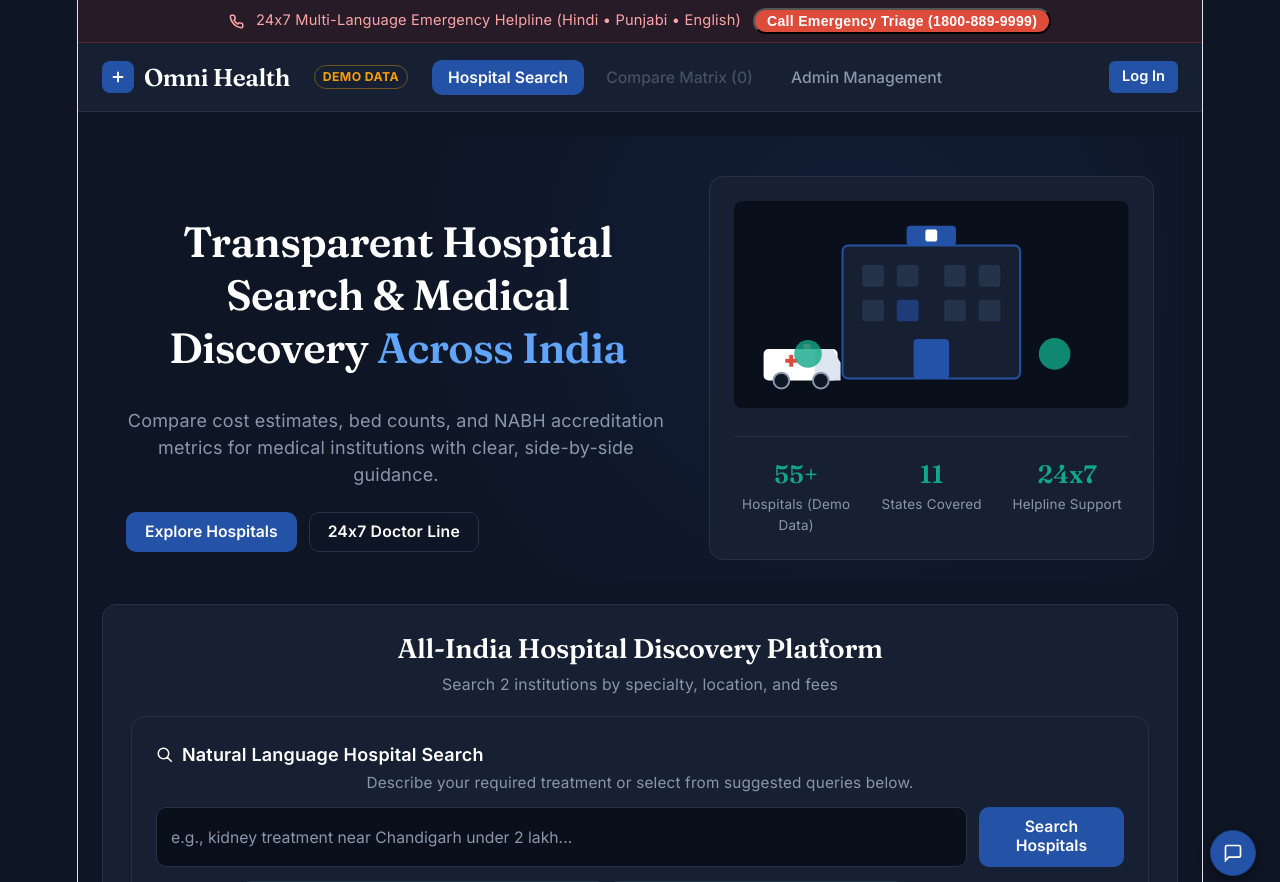
it: Authentication › opens auth modal when clicking log in
Click the button "Log In". click: (1144, 77)
box: [1109,61,1178,93]
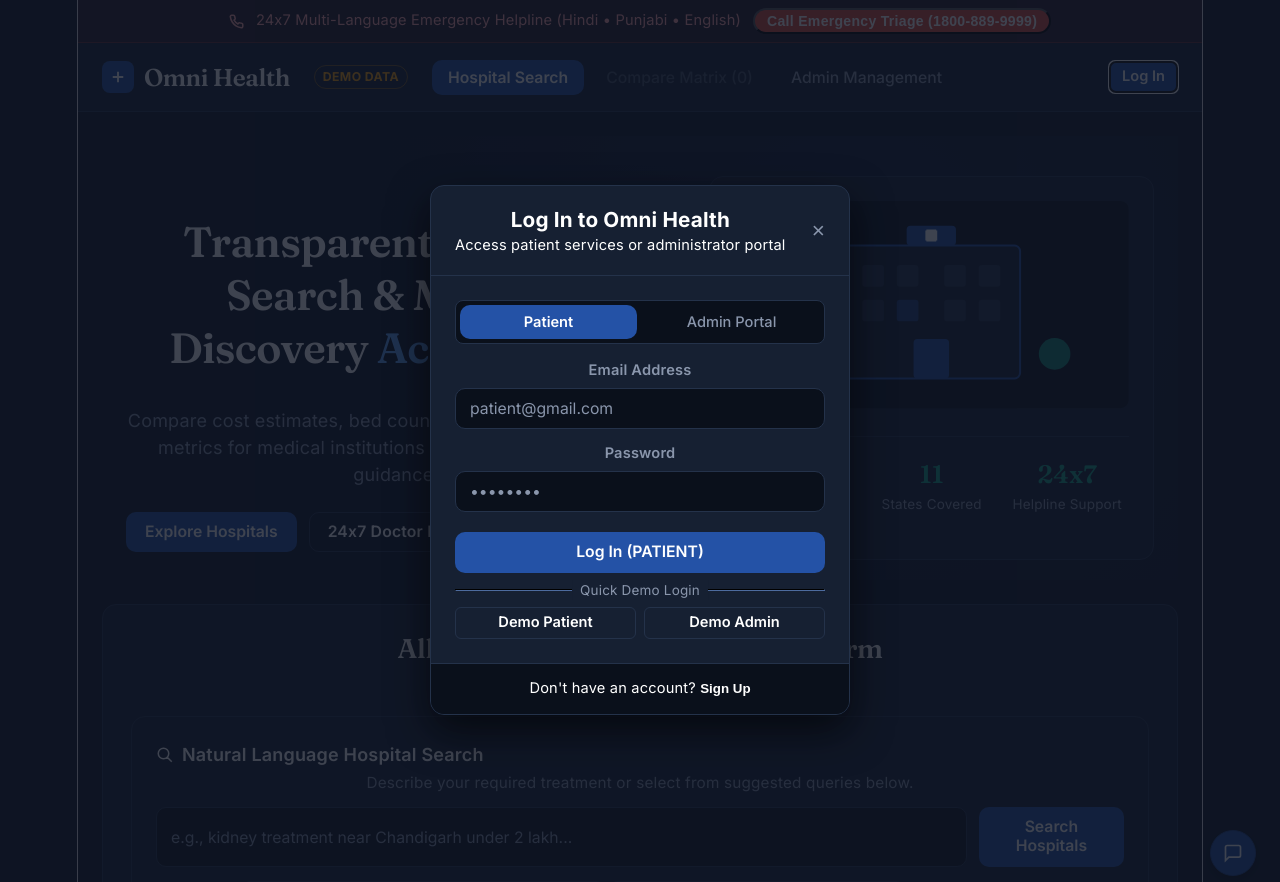
Check: the heading "Log In to Omni Health" is shown, box [511,207,730,232]
